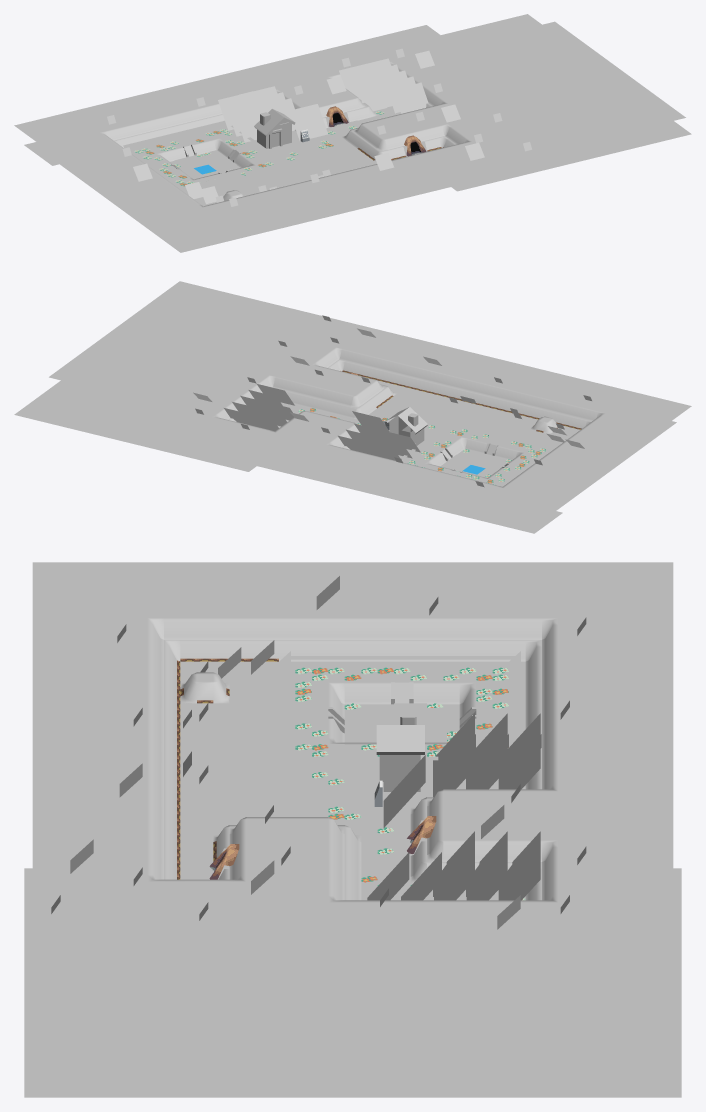
The model's file is Mt. Moon Square (Monday).fbx.
The picture shows the model from 3 angles, top to bottom: view 1: azimuth 30°, elevation 25°; view 2: azimuth 150°, elevation 25°; view 3: azimuth 270°, elevation 25°; orthographic projection. The views are drawn at different scales.
Parts seen in each view (by area): view 1: sp_dun0203_00_00, sp_dun0203_01_00, nbc_h01; view 2: sp_dun0203_00_00, sp_dun0203_01_00, nbc_h01; view 3: sp_dun0203_00_00, sp_dun0203_01_00, nbc_h01.
Boxes of the visible parts, left/top/right/bottom form: sp_dun0203_00_00: left=14, top=56, right=457, bottom=252; sp_dun0203_01_00: left=299, top=14, right=691, bottom=191; nbc_h01: left=254, top=109, right=300, bottom=151; sp_dun0203_00_00: left=247, top=336, right=691, bottom=533; sp_dun0203_01_00: left=14, top=281, right=406, bottom=471; nbc_h01: left=386, top=407, right=427, bottom=445; sp_dun0203_00_00: left=32, top=562, right=673, bottom=869; sp_dun0203_01_00: left=24, top=831, right=681, bottom=1097; nbc_h01: left=367, top=710, right=426, bottom=797.
Size of the model in its own units: 116000 by 12700 by 64000.
